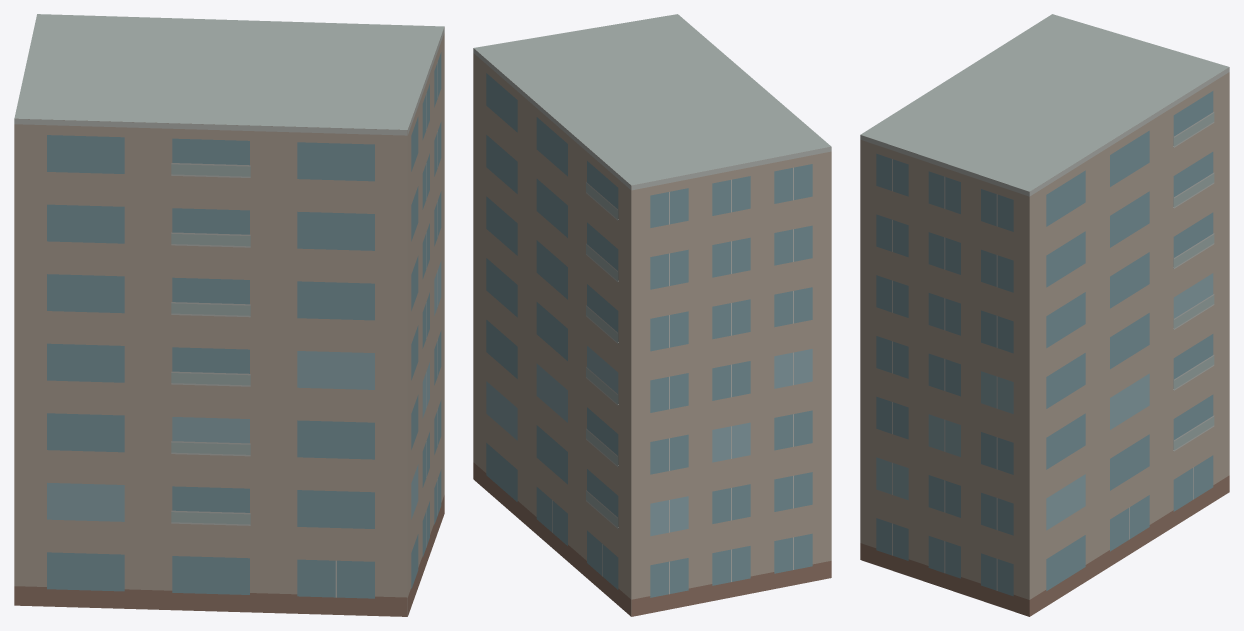
Rendered from survey-upis-32507476.glb.
3 renders of one model, left to right at view 1: azimuth 30°, elevation 25°; view 2: azimuth 150°, elevation 25°; view 3: azimuth 270°, elevation 25°, orthographic. The views are drawn at different scales.
Parts seen in each view (by area): view 1: survey-upis-32507476.tmp; view 2: survey-upis-32507476.tmp; view 3: survey-upis-32507476.tmp.
Part boxes in pixels (box(x1,y1,x2,y2)): survey-upis-32507476.tmp: box(14, 14, 444, 616); survey-upis-32507476.tmp: box(473, 14, 831, 616); survey-upis-32507476.tmp: box(860, 14, 1229, 616).
Bounding box in the file's own units: 19.16 × 21.35 × 16.82.
